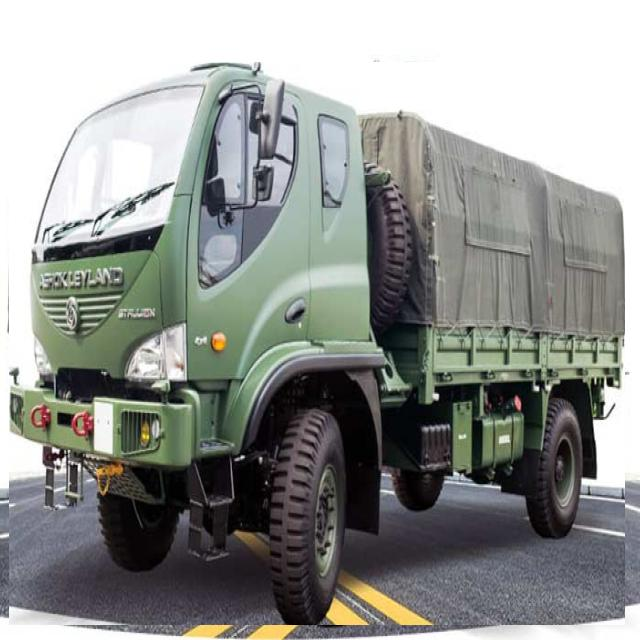truck: (9, 62, 625, 625)
